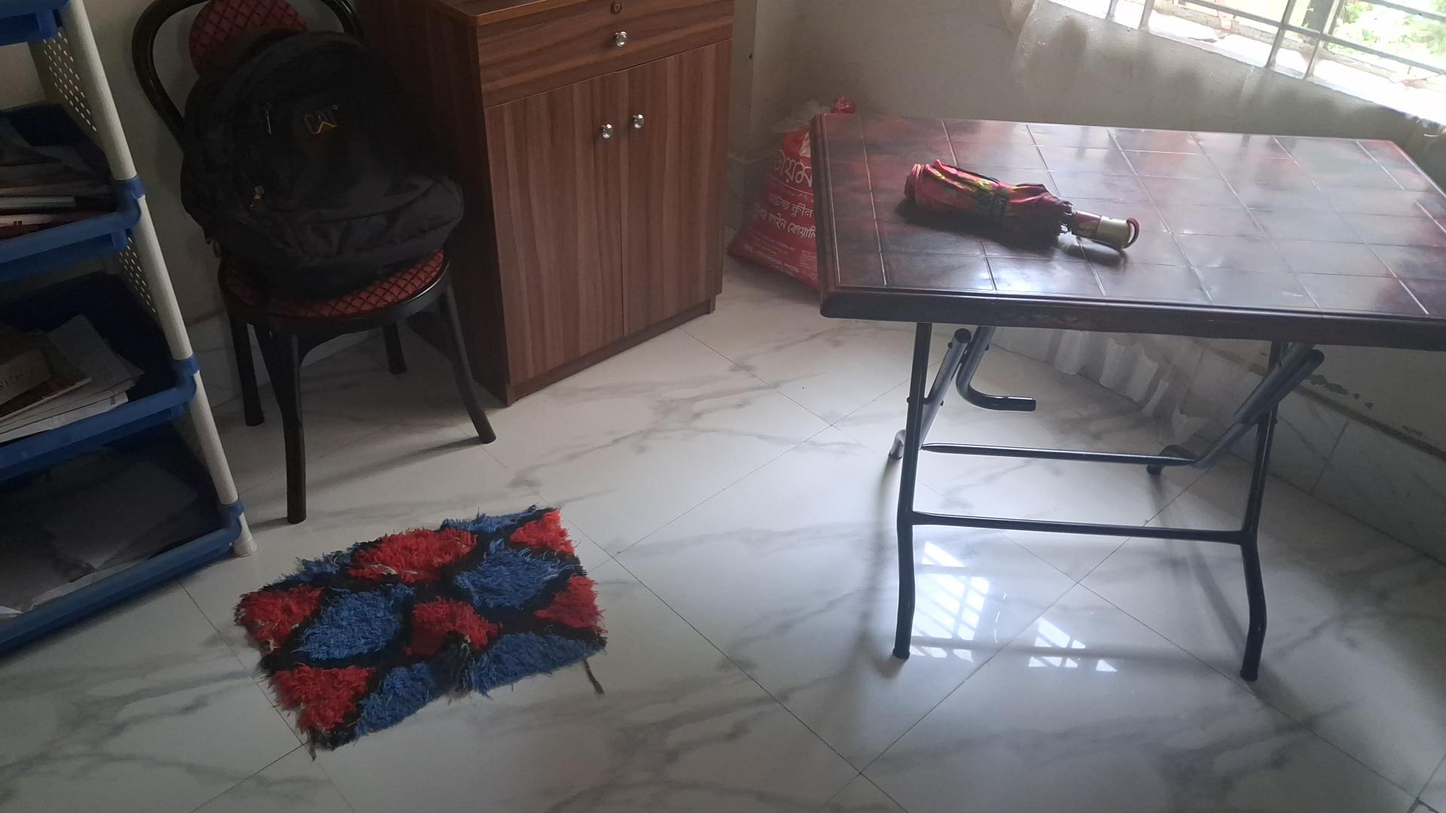Bag: (189, 29, 453, 290)
Chair: (133, 0, 498, 526)
Floor Mat: (239, 505, 610, 755)
Rack: (0, 2, 249, 662)
Table: (814, 113, 1446, 684)
Umbrella: (908, 155, 1139, 266)
